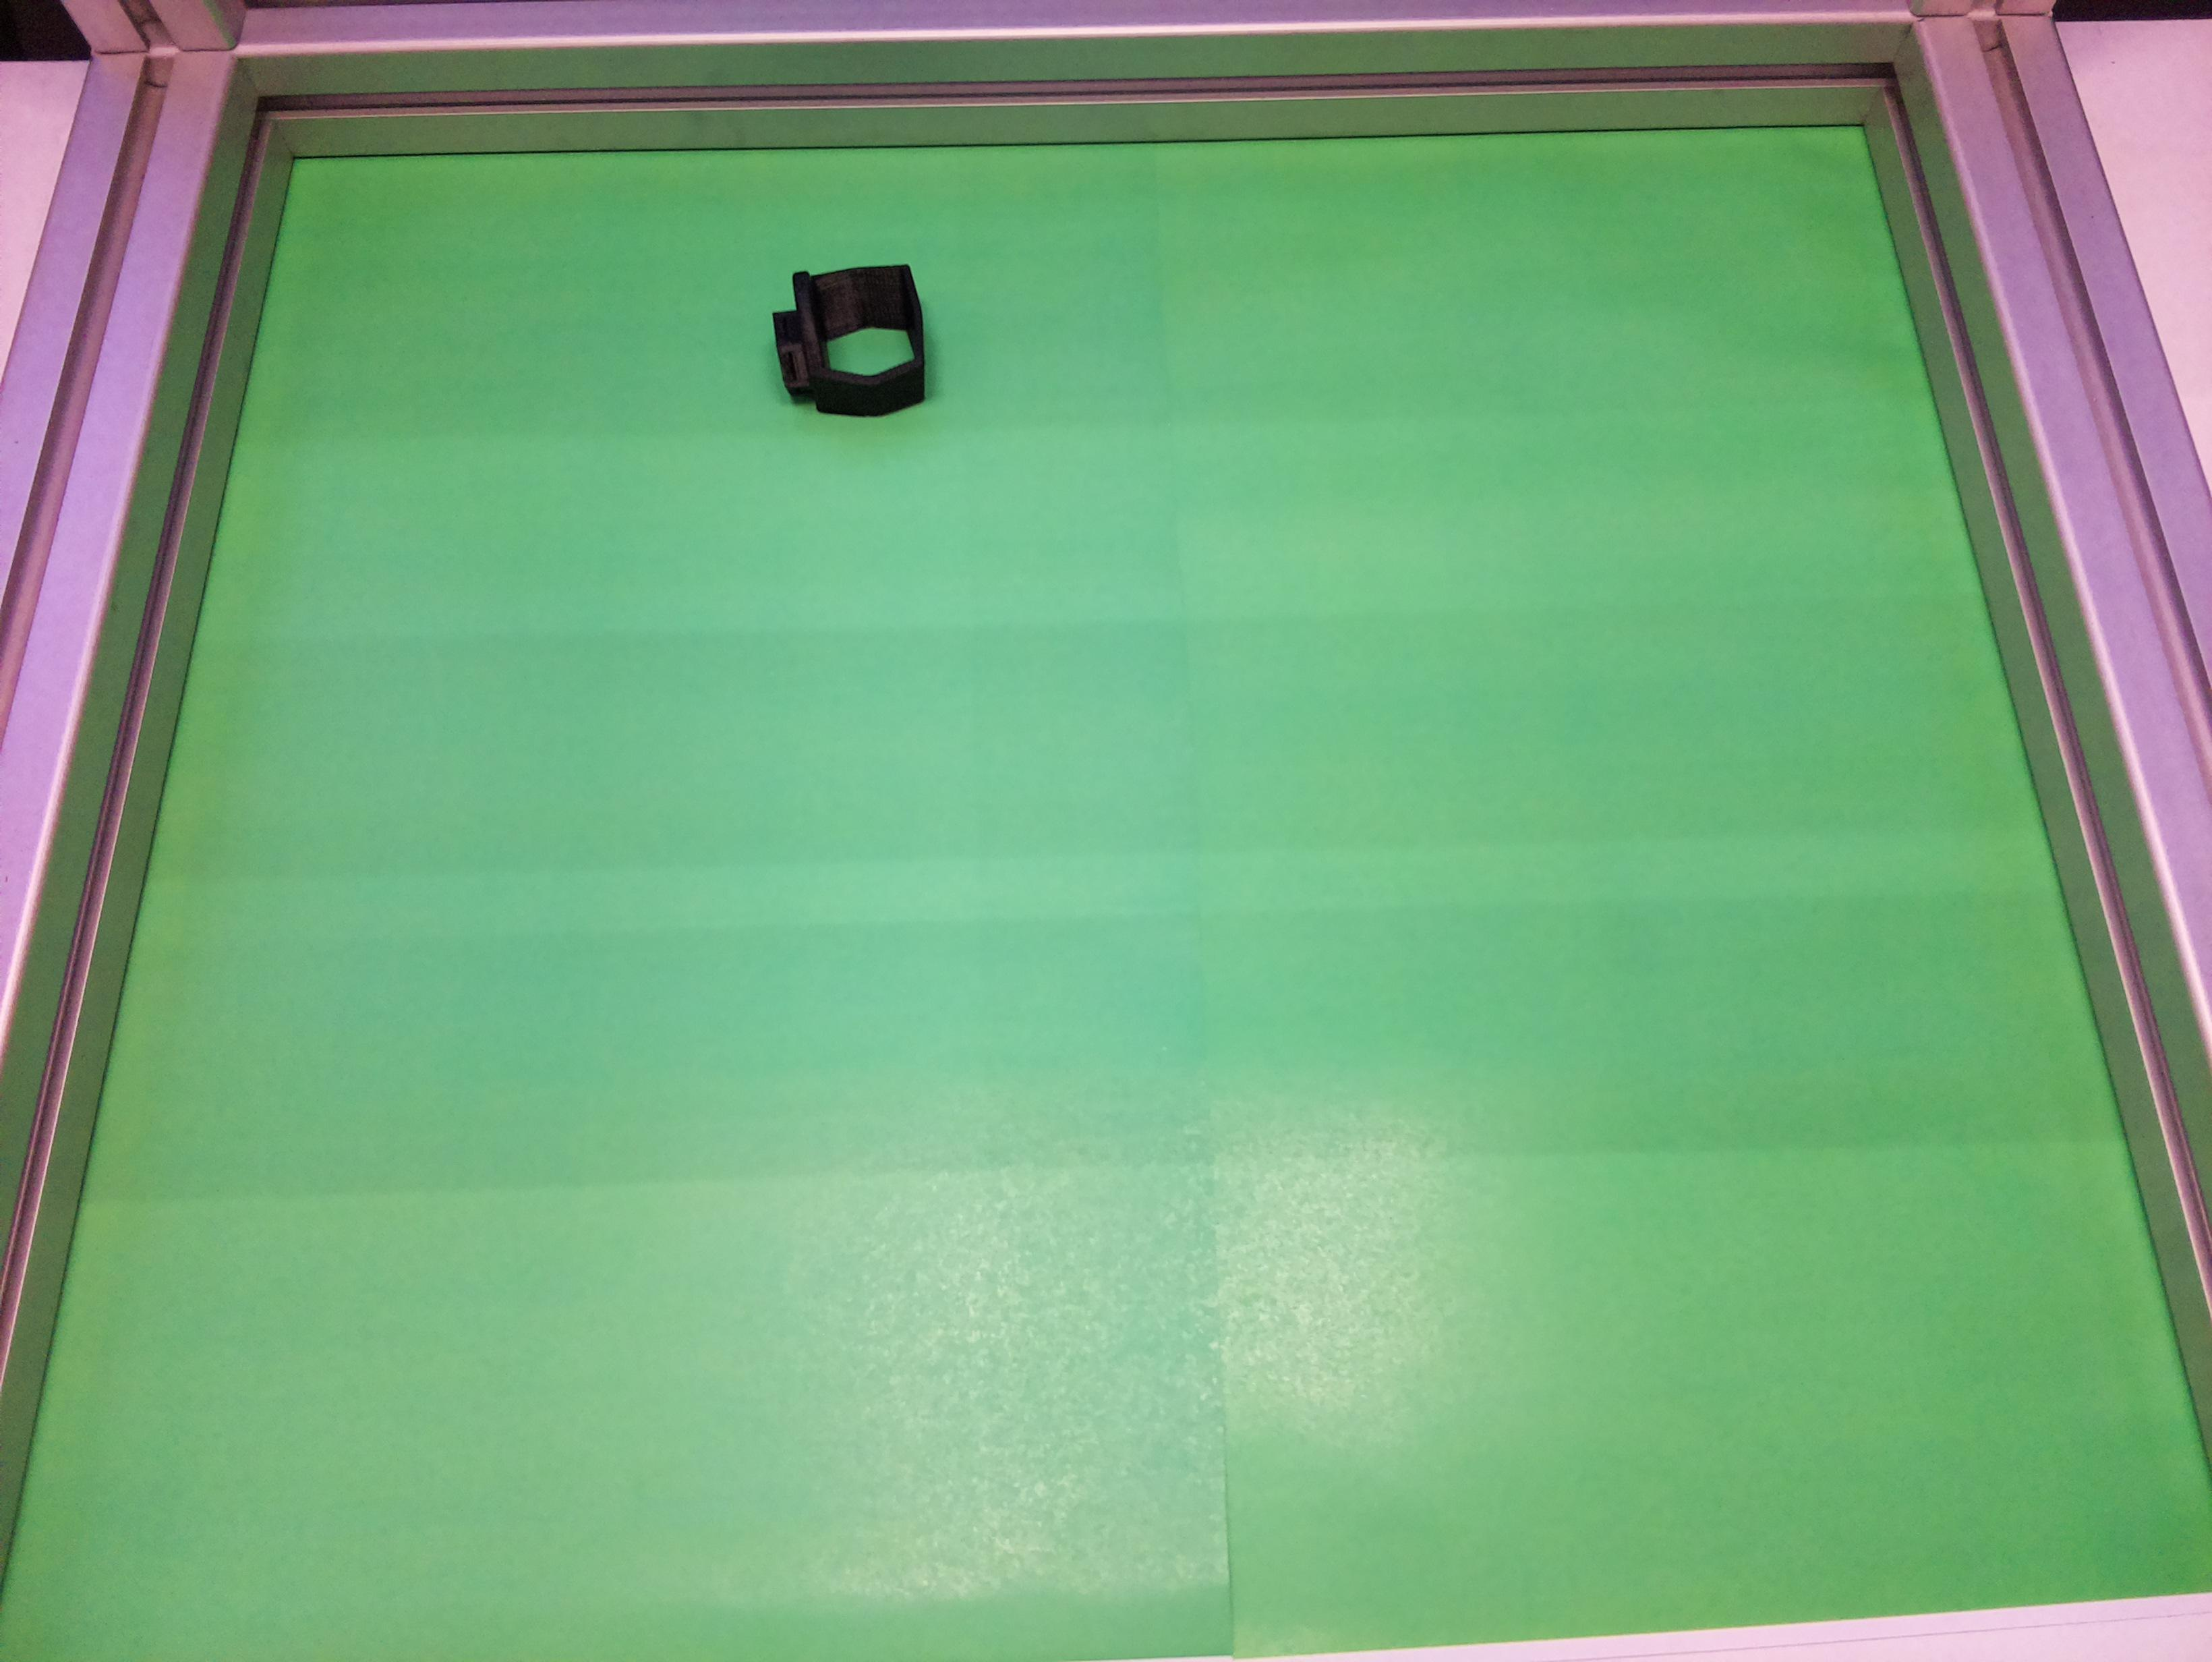scissor_holder: (770, 264, 929, 421)
